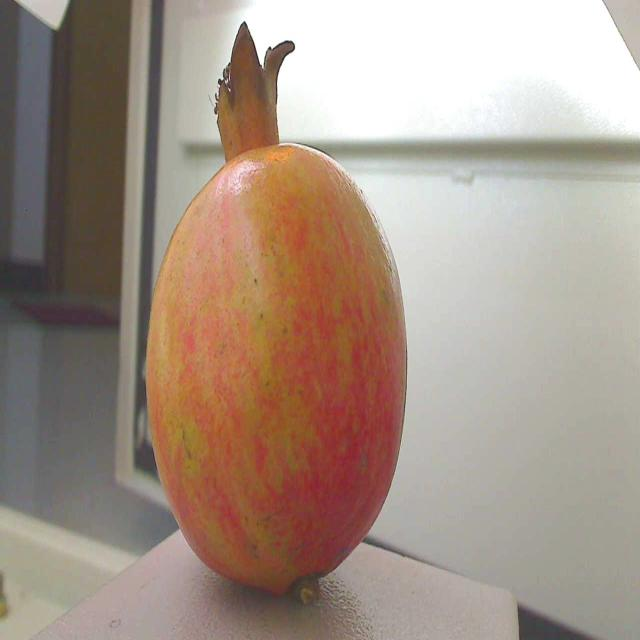pomegranate: (138, 20, 420, 617)
